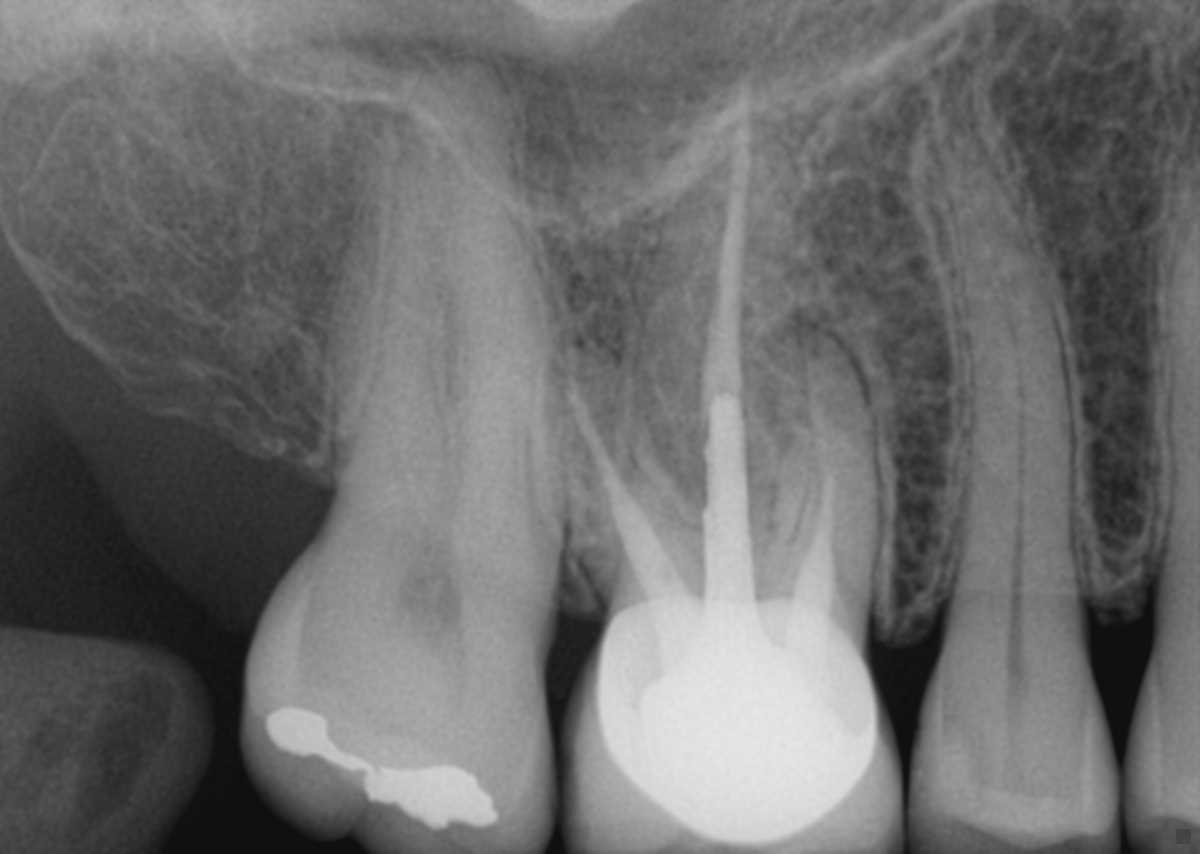Apical Lesion: (738, 303, 856, 433), (536, 232, 641, 350)
Distal Root: (528, 331, 696, 592), (333, 165, 451, 510)
Main Canal: (1007, 306, 1025, 595)
Main Root: (914, 72, 1078, 607), (1158, 157, 1200, 568)
Mesial Root: (442, 182, 567, 569), (764, 324, 879, 614)
Palatal Root: (612, 110, 836, 597), (343, 59, 563, 554)
Root Canal Filling: (565, 388, 690, 607), (704, 77, 749, 401), (786, 474, 838, 647)
